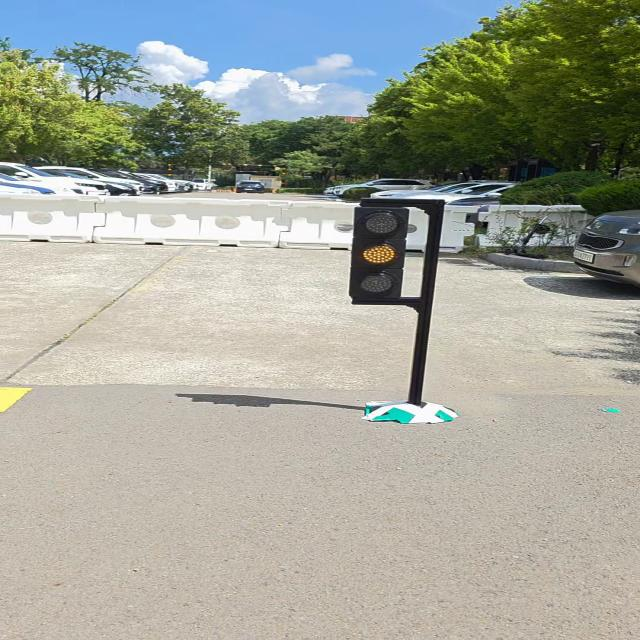yellow: (354, 206, 402, 298)
